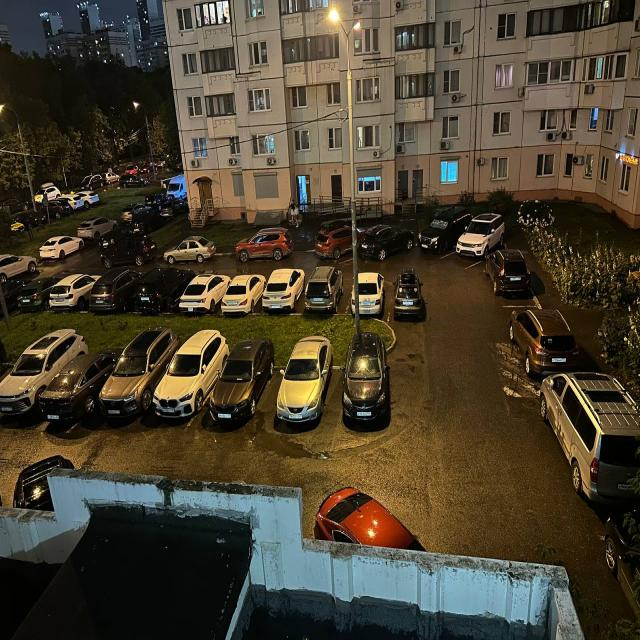car: (540, 372, 640, 502), (315, 487, 435, 555), (1, 328, 92, 416), (316, 487, 433, 555), (99, 324, 180, 419), (152, 328, 230, 418), (40, 347, 125, 423), (207, 337, 275, 426), (273, 335, 333, 426), (507, 306, 580, 376), (344, 332, 390, 427), (135, 267, 196, 315), (89, 268, 148, 312), (417, 207, 472, 252), (454, 212, 507, 258), (314, 219, 372, 260), (484, 244, 532, 293), (359, 222, 416, 261), (233, 225, 296, 259), (180, 274, 232, 315), (302, 265, 345, 314), (48, 273, 104, 310), (221, 272, 267, 314), (261, 266, 306, 308), (104, 232, 159, 264), (162, 234, 217, 263), (349, 271, 385, 315), (17, 278, 61, 312), (393, 267, 422, 314), (0, 253, 39, 285), (40, 236, 86, 260), (76, 218, 119, 239), (117, 202, 154, 225), (10, 210, 47, 230), (35, 198, 69, 218), (55, 192, 86, 213), (34, 184, 62, 205), (118, 172, 151, 187), (74, 189, 100, 207)
